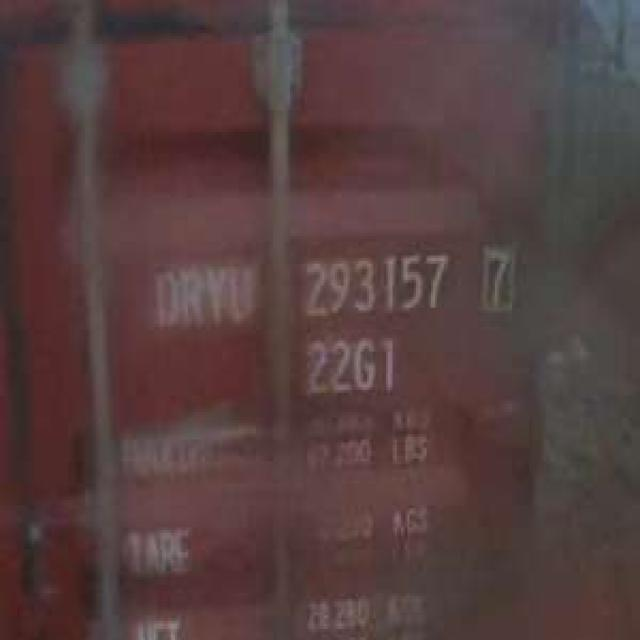dv: (476, 242, 518, 316)
owner: (143, 256, 262, 335)
serial: (294, 244, 452, 322)
size: (299, 330, 401, 398)
